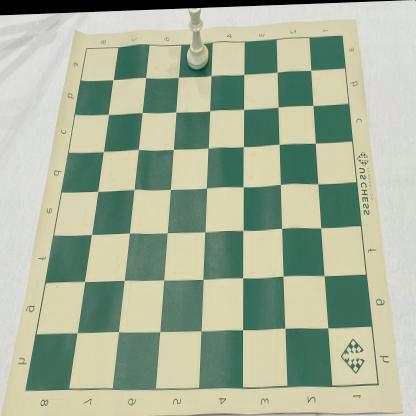white-king: (186, 6, 209, 70)
